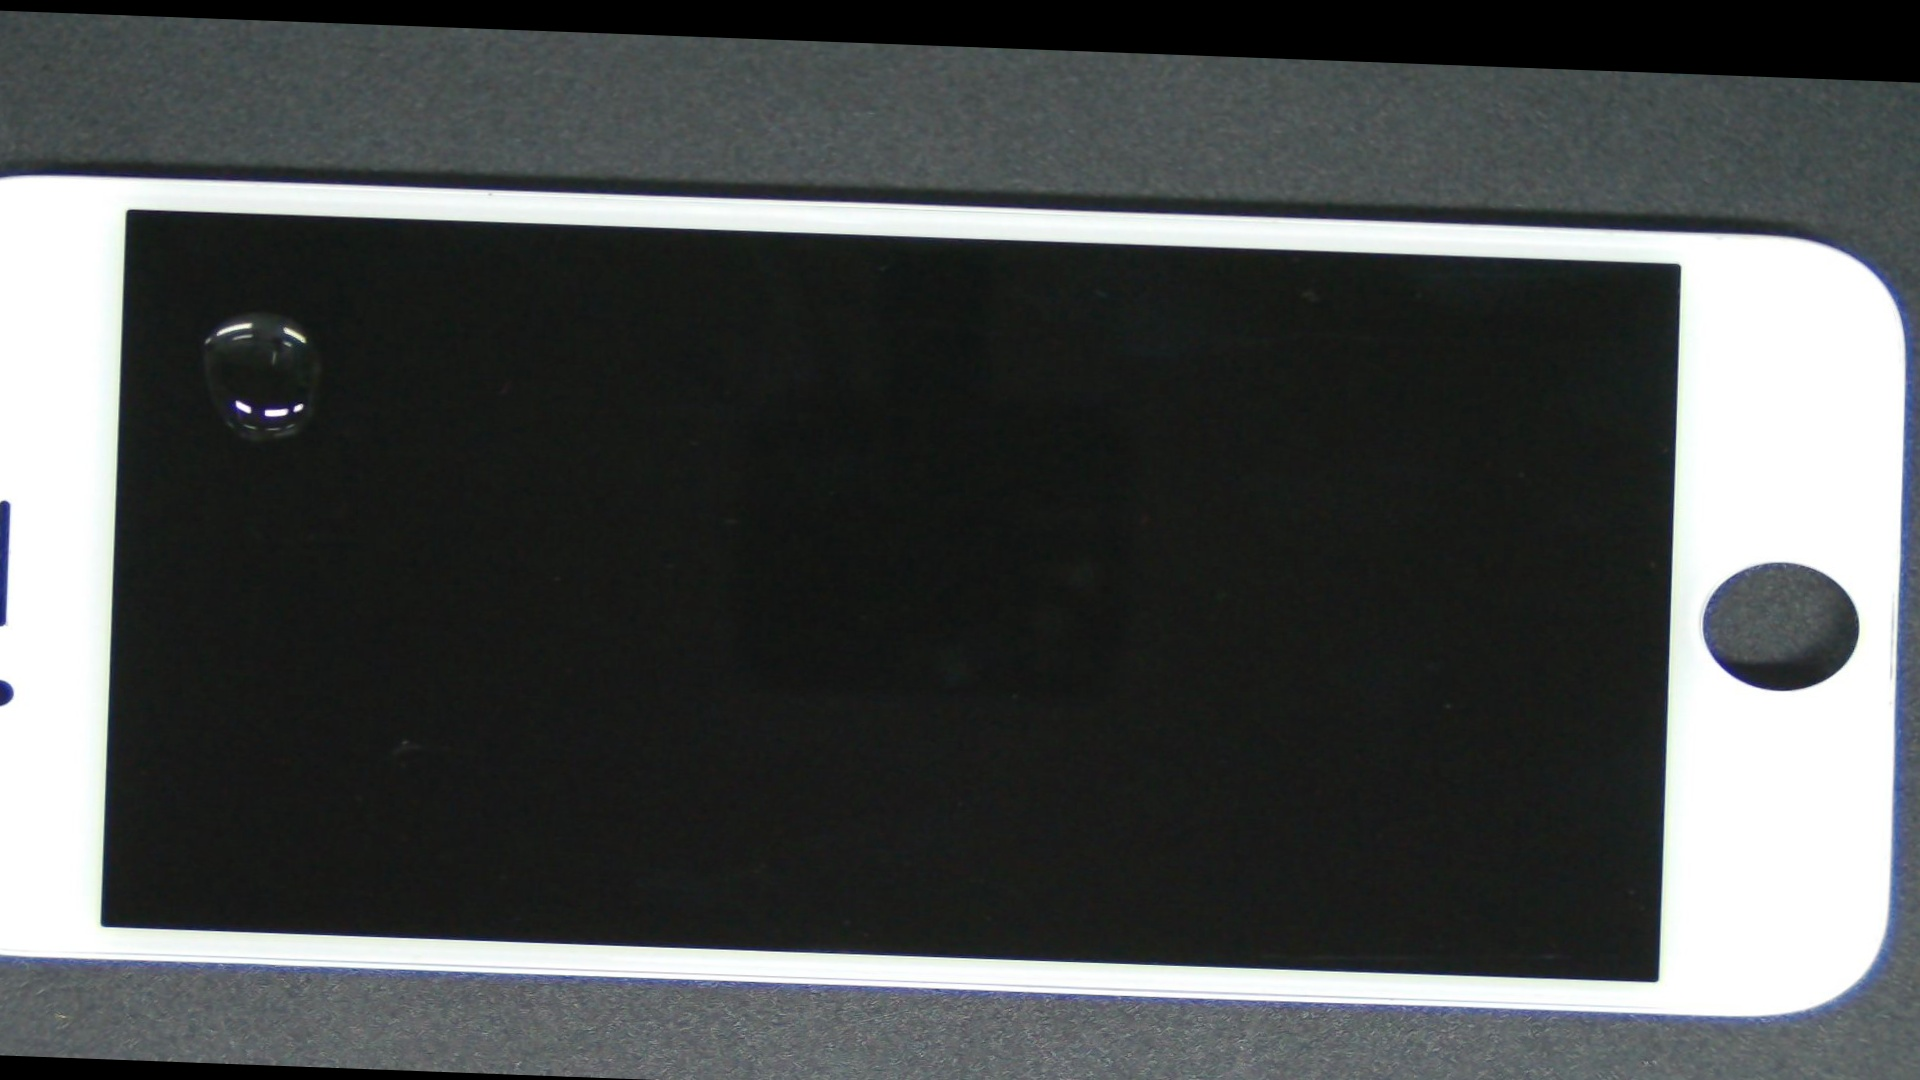oil: (15, 156, 506, 465)
